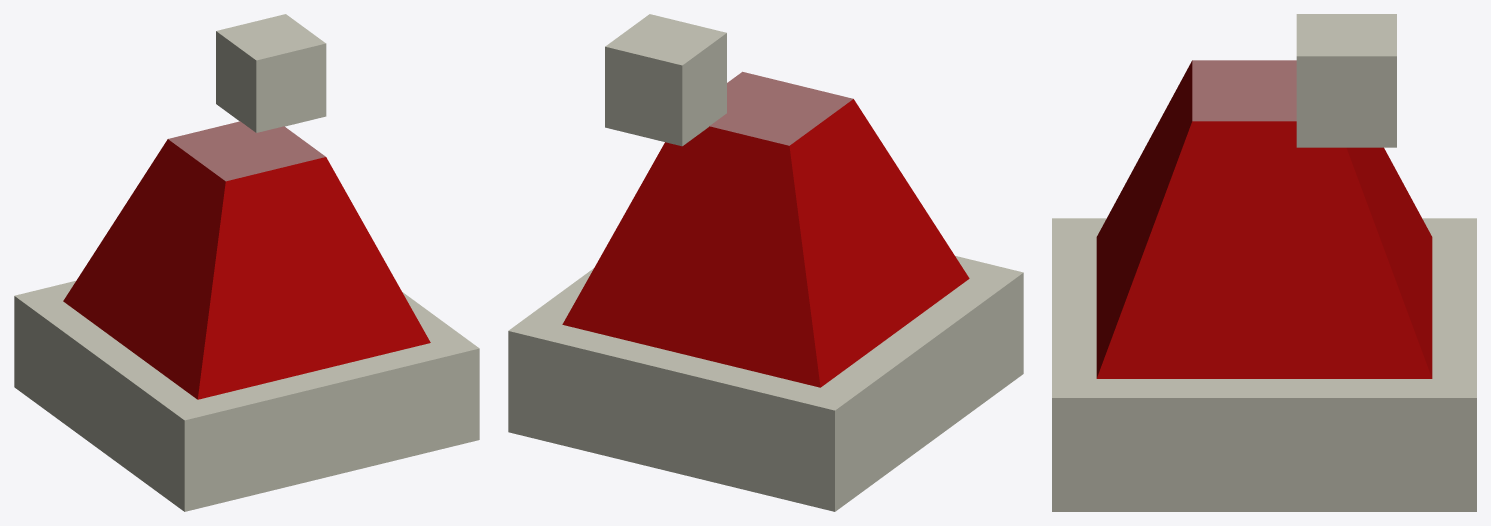
The model's file is 006 Santa_Claus_Hat.fbx.
The picture shows the model from 3 angles, left to right: view 1: azimuth 30°, elevation 25°; view 2: azimuth 150°, elevation 25°; view 3: azimuth 270°, elevation 25°; orthographic projection. The views are drawn at different scales.
Visible parts, largest first — view 1: Lowpoly_Christmas_Pack_06:pCube3; view 2: Lowpoly_Christmas_Pack_06:pCube3; view 3: Lowpoly_Christmas_Pack_06:pCube3.
Boxes of the visible parts, x1,y1,x2,y2 form: Lowpoly_Christmas_Pack_06:pCube3: (14, 14, 479, 511); Lowpoly_Christmas_Pack_06:pCube3: (508, 14, 1023, 511); Lowpoly_Christmas_Pack_06:pCube3: (1052, 14, 1476, 511).
Bounding box in the file's own units: 1 × 1.1 × 1.
